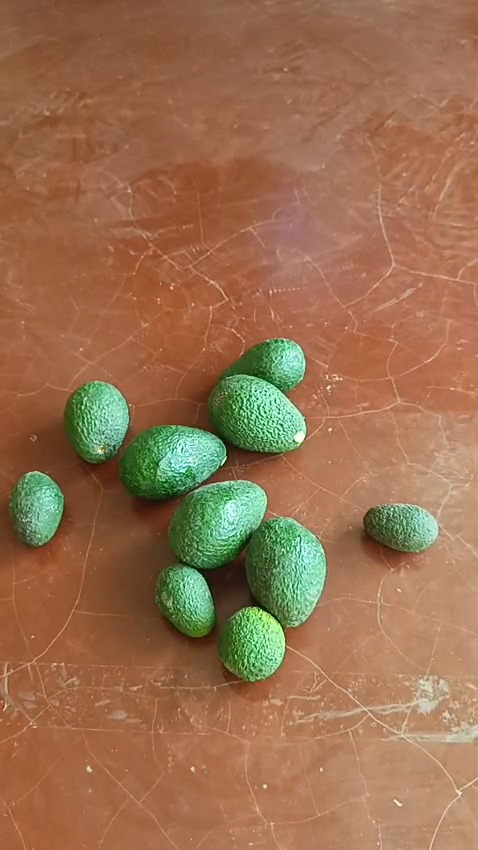Primera: (244, 516, 326, 625), (168, 480, 266, 568), (117, 423, 226, 498), (206, 375, 305, 452)
Segunda: (64, 381, 131, 462), (220, 339, 304, 393)
Tercera: (216, 605, 285, 680), (152, 562, 215, 637), (6, 469, 63, 545), (362, 502, 439, 552)
